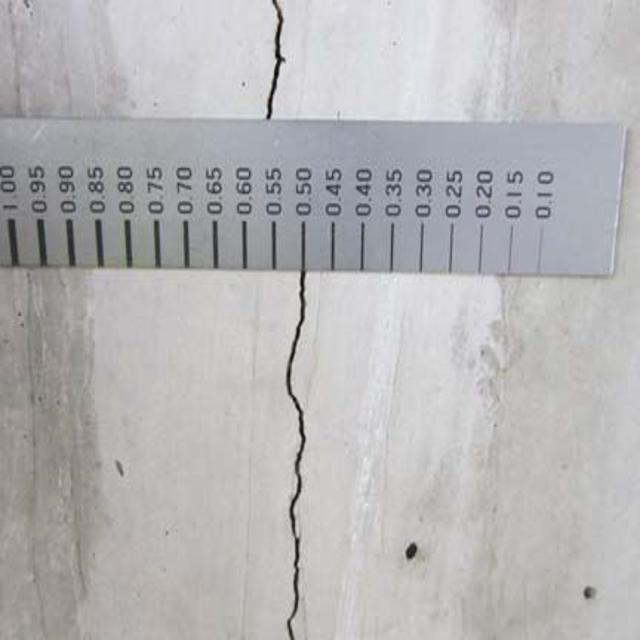crack: (268, 275, 320, 640), (254, 6, 294, 117)
